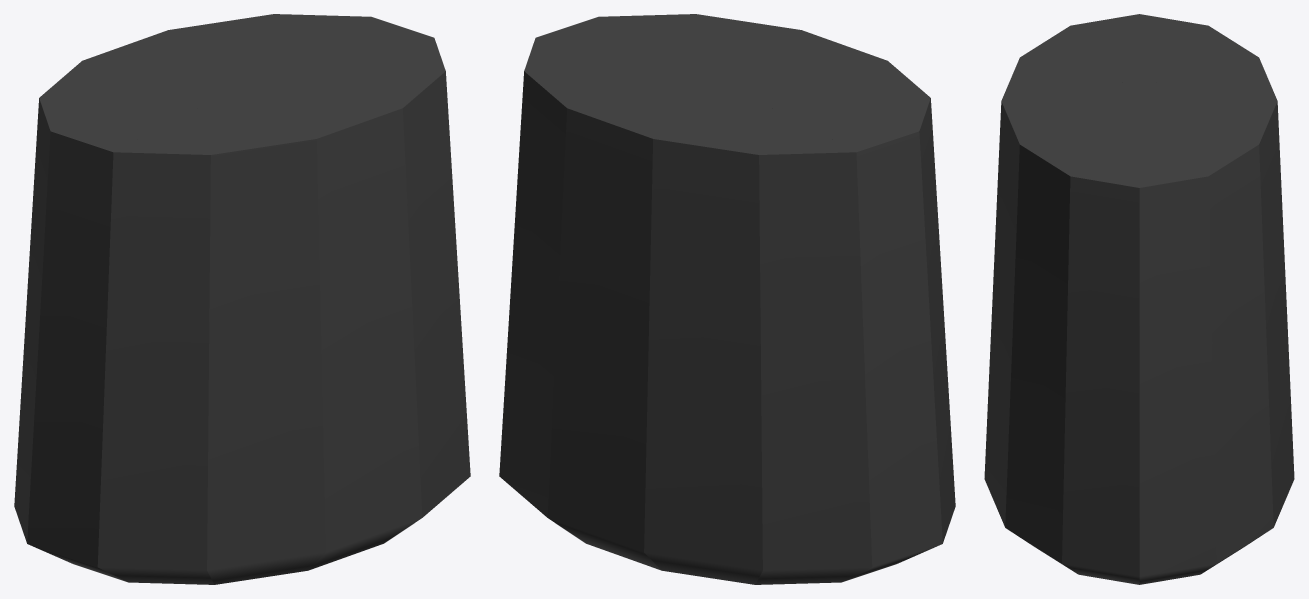
The model's file is player_body.obj.
The picture shows the model from 3 angles, left to right: view 1: azimuth 30°, elevation 25°; view 2: azimuth 150°, elevation 25°; view 3: azimuth 270°, elevation 25°; orthographic projection. The views are drawn at different scales.
Size of the model in its own units: 1.07 by 1.04 by 0.7194.
Materials: 1 (1 with a texture image).
